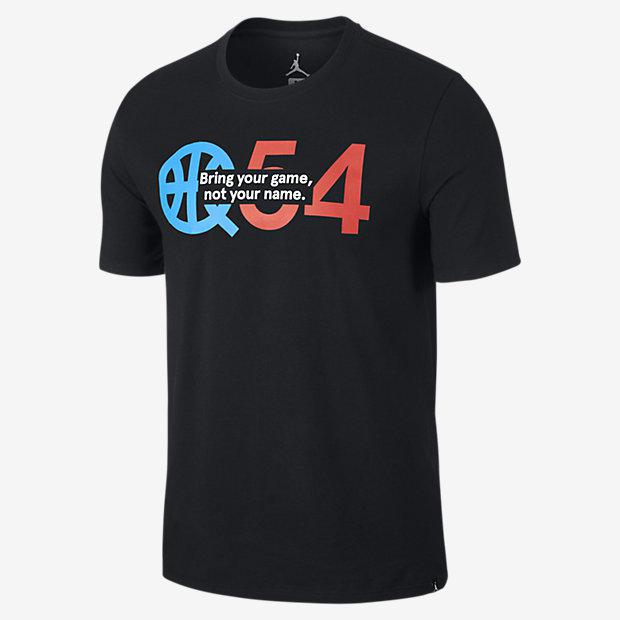teeshirt: (71, 12, 545, 620)
